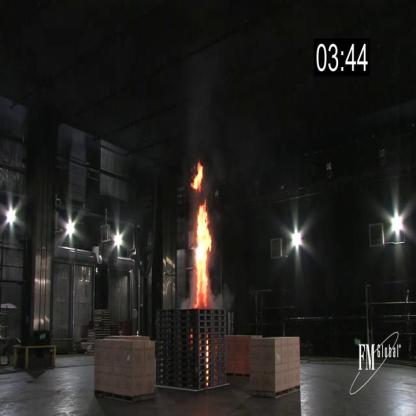fire: (188, 197, 214, 311), (187, 157, 206, 192)
